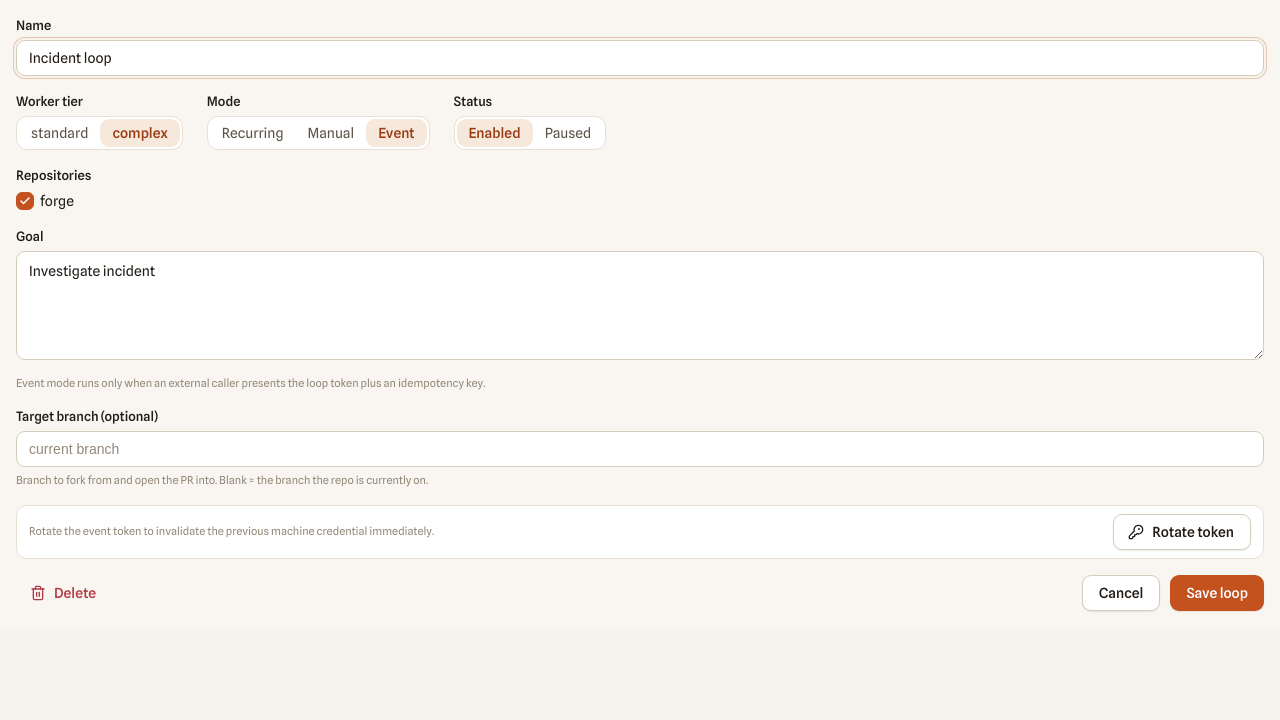
LoopForm › rotates the token for an existing event loop
The image size is (1280, 720).
Note: Rotation invalidates the old credential immediately — it takes a two-step confirm (QA F13).
What coordinates should you click on to do the following:
click the button "Rotate token"
I would click on:
 (1182, 532)
Its box is [1113,514,1251,550].
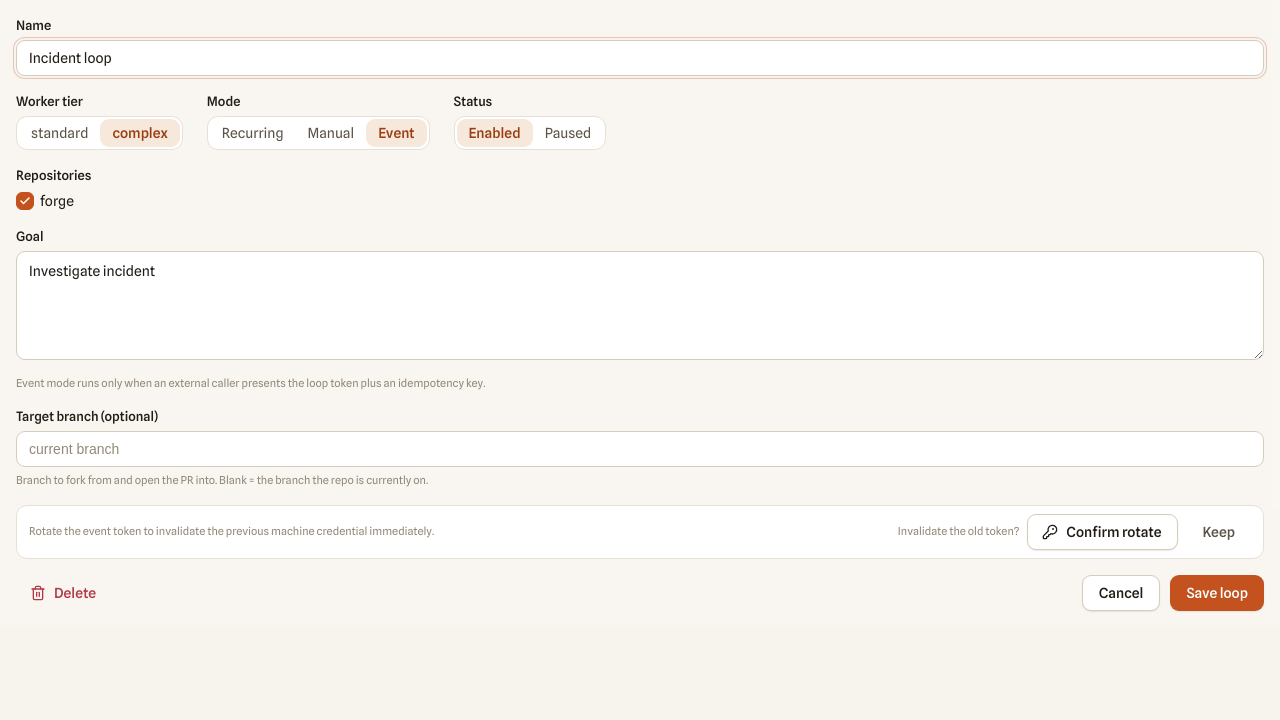
What coordinates should you click on to do the following:
click the button "Confirm rotate"
I would click on:
 (1103, 532)
Its box is [1027,514,1178,550].
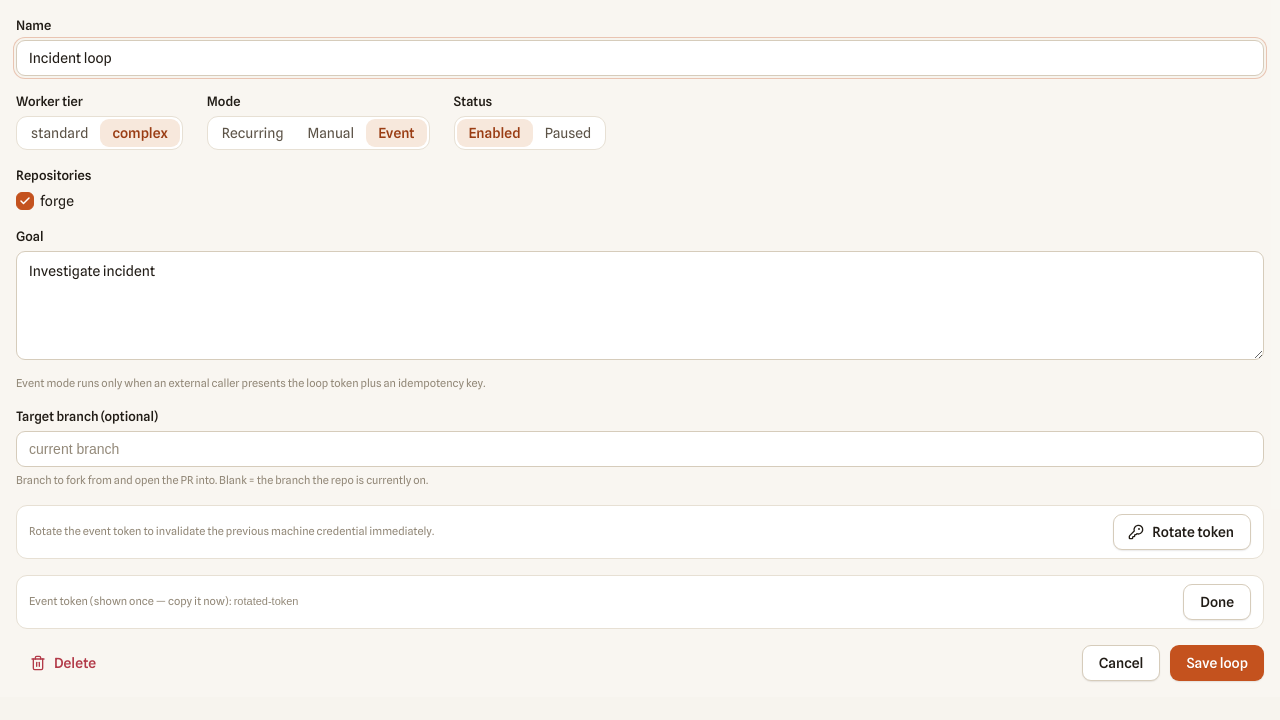
Check: the text "rotated-token" is shown, box [234,595,298,607]
